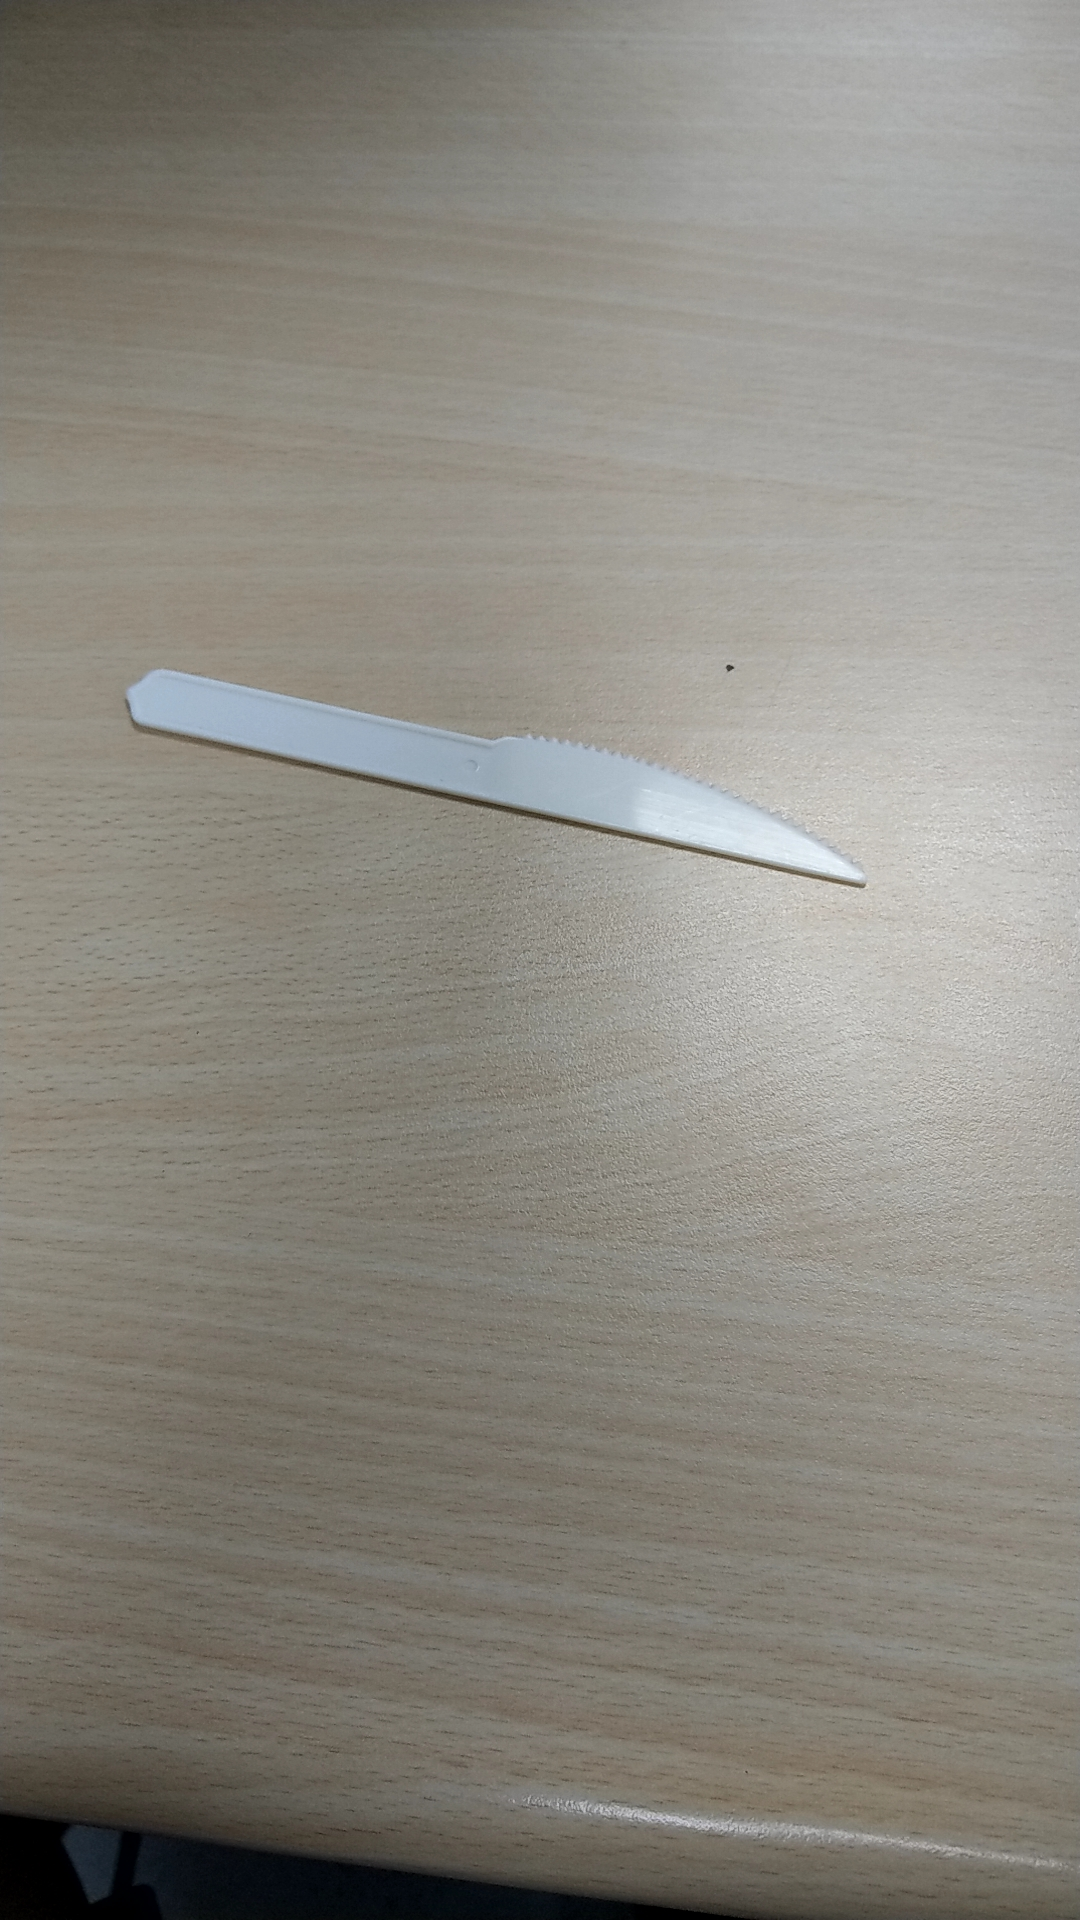knife: (87, 636, 887, 914)
